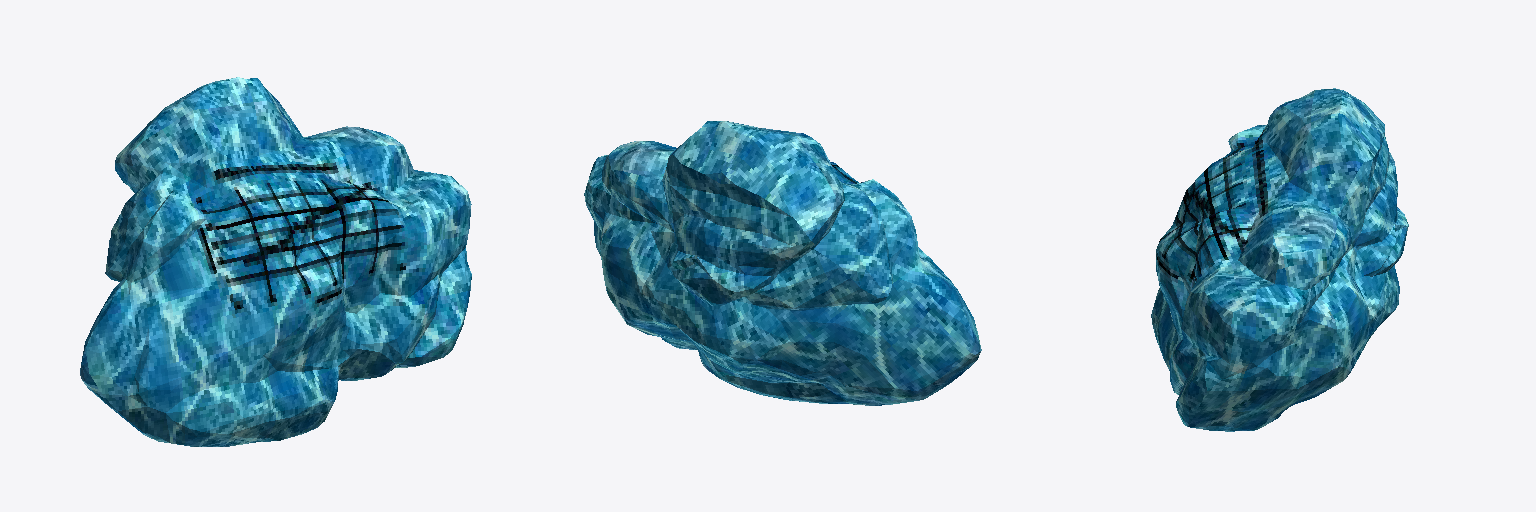
The picture shows the model from 3 angles: view 1: azimuth 30°, elevation 25°; view 2: azimuth 150°, elevation 25°; view 3: azimuth 270°, elevation 25°; orthographic projection.
Parts seen in each view (by area): view 1: Rock; view 2: Rock; view 3: Rock.
Part boxes in pixels (bbox=[...]): Rock: bbox=[80, 77, 471, 446]; Rock: bbox=[584, 121, 981, 405]; Rock: bbox=[1151, 88, 1408, 431].
Size of the model in its own units: 160 by 123 by 93.5.
Materials: 1 (1 with a texture image).